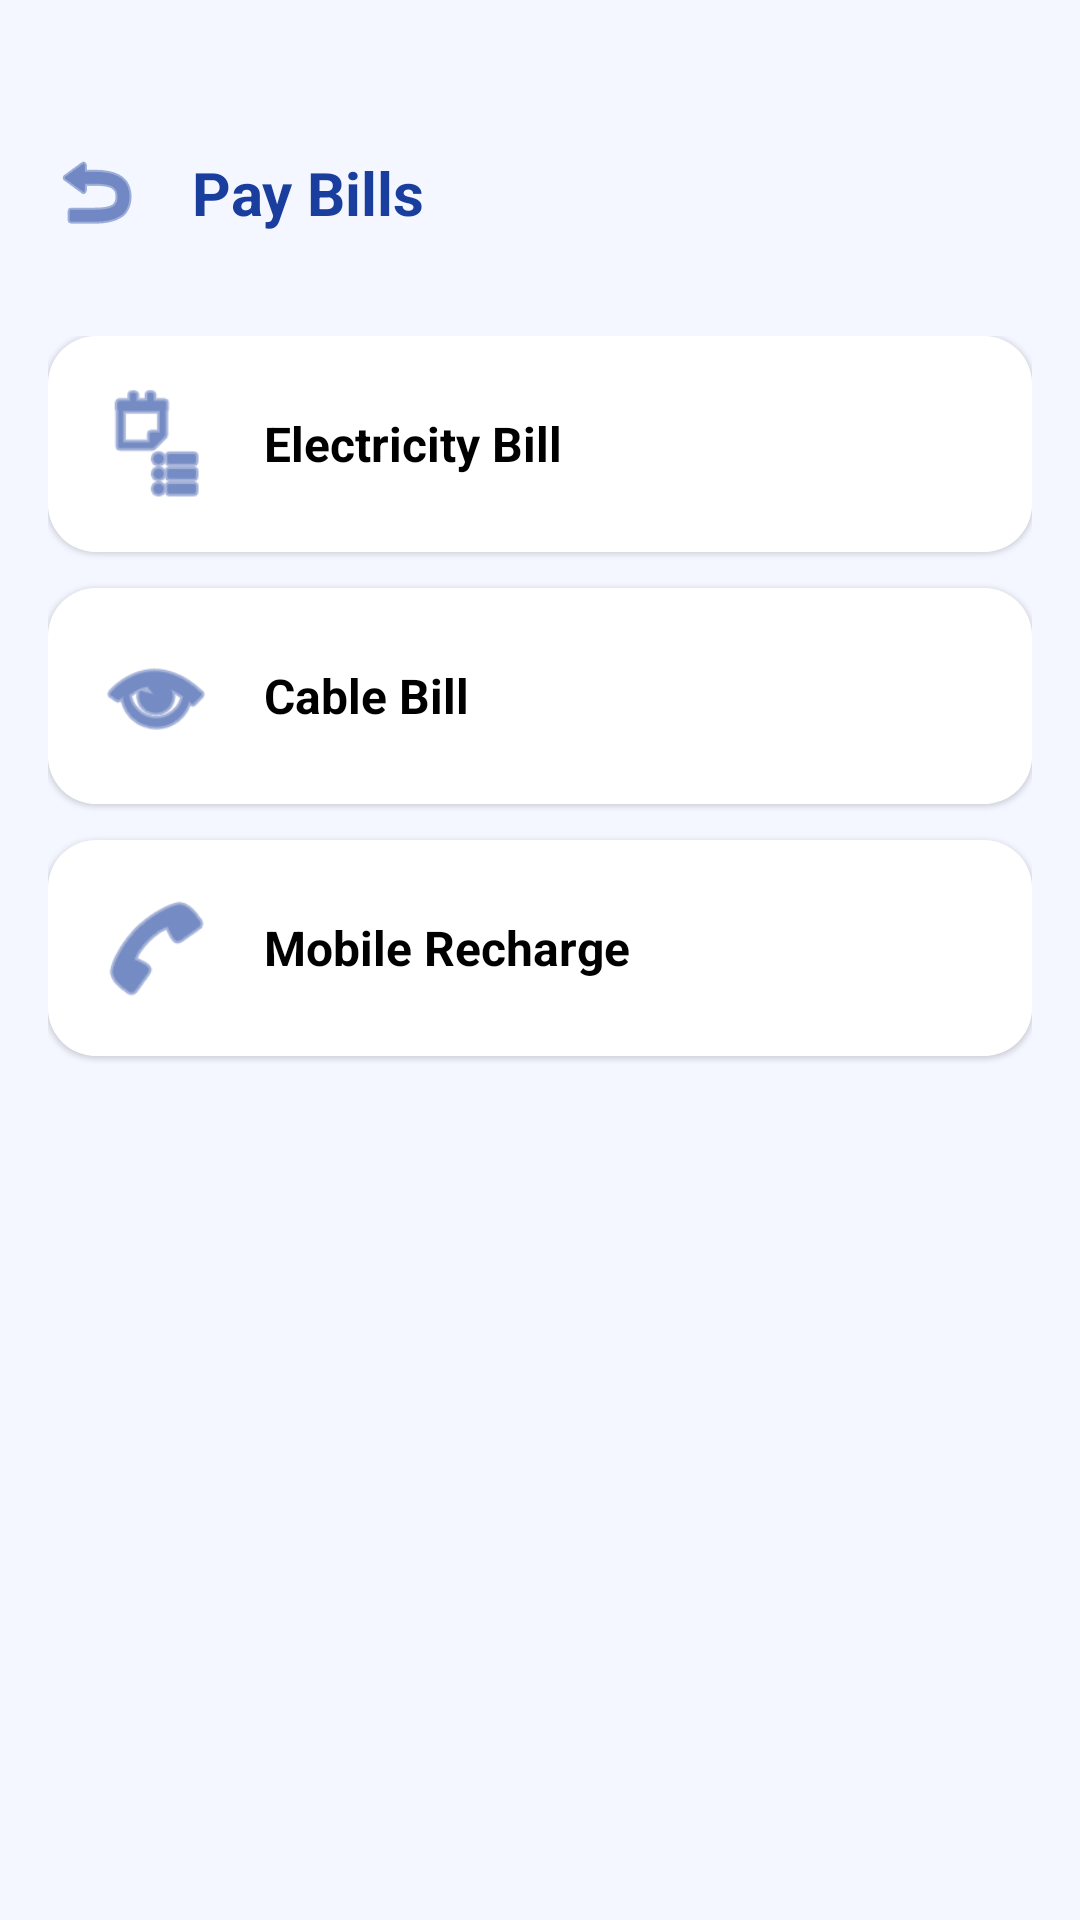

Screen size 1080px x 1920px. Icon name, then its box in pixels as {"left": x1, "top": y1, "right": x2, "bottom": y2}:
agenda: {"left": 114, "top": 390, "right": 199, "bottom": 497}
call: {"left": 110, "top": 902, "right": 204, "bottom": 996}
revert: {"left": 63, "top": 161, "right": 132, "bottom": 224}
view: {"left": 107, "top": 668, "right": 205, "bottom": 730}
